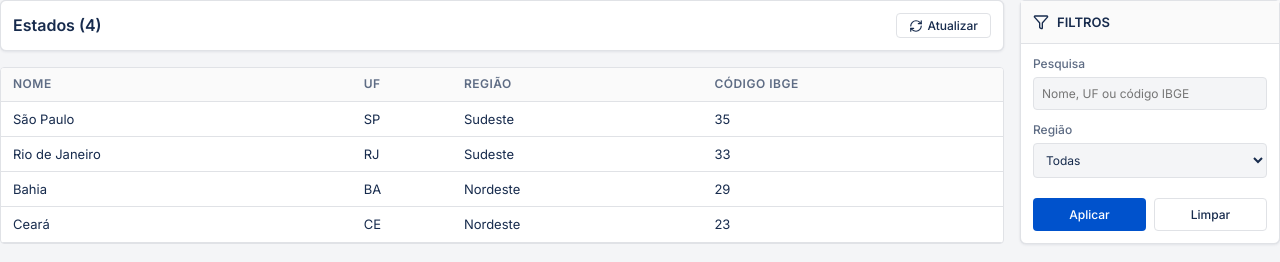
Test: States › volta a listar todos os estados ao limpar os filtros
The image size is (1280, 262).
Expected: the text "São Paulo" is shown, [1,101,352,136]
Select "Nordeste" in the dropdown at [1150, 160], box [1033,143,1267,178]
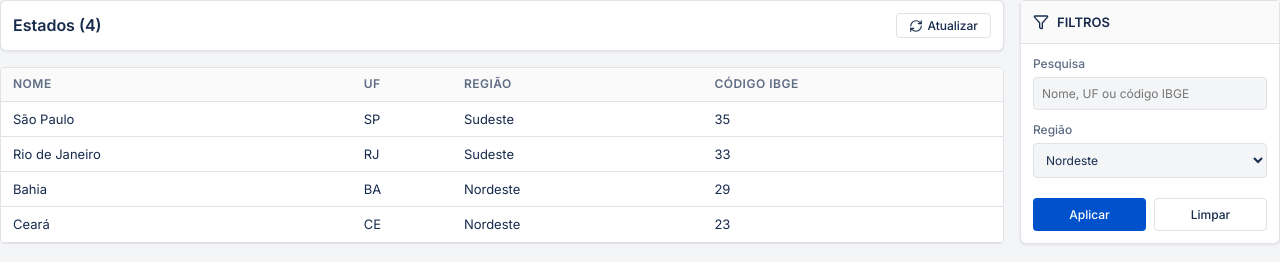
Click the button "Aplicar".
click(1090, 214)  # box [1033,198,1146,231]
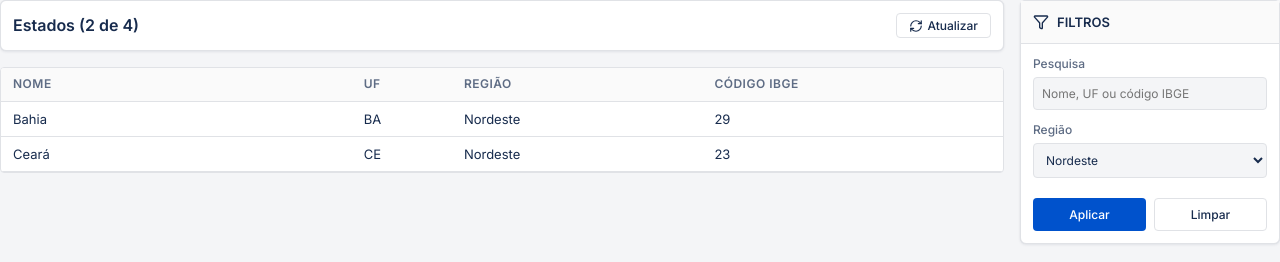
Now the text "São Paulo" is gone
Click the button "Limpar".
click(1210, 214)  # box [1154,198,1267,231]
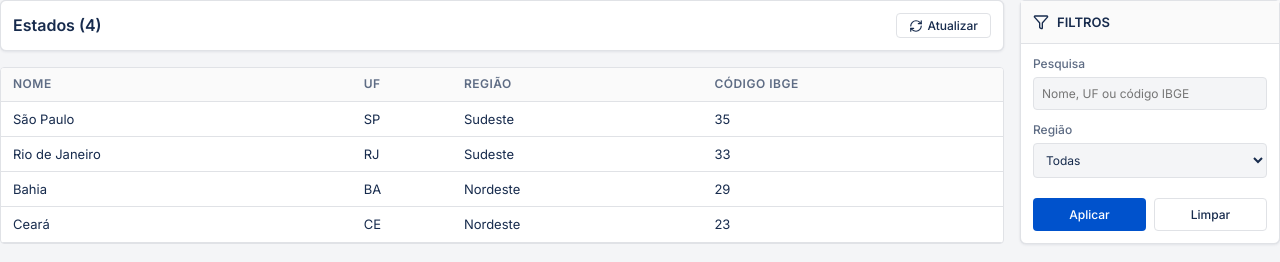
Expected: the text "Bahia" is shown, [1,172,352,207]
Now the text "São Paulo" is shown, box [1,101,352,136]
